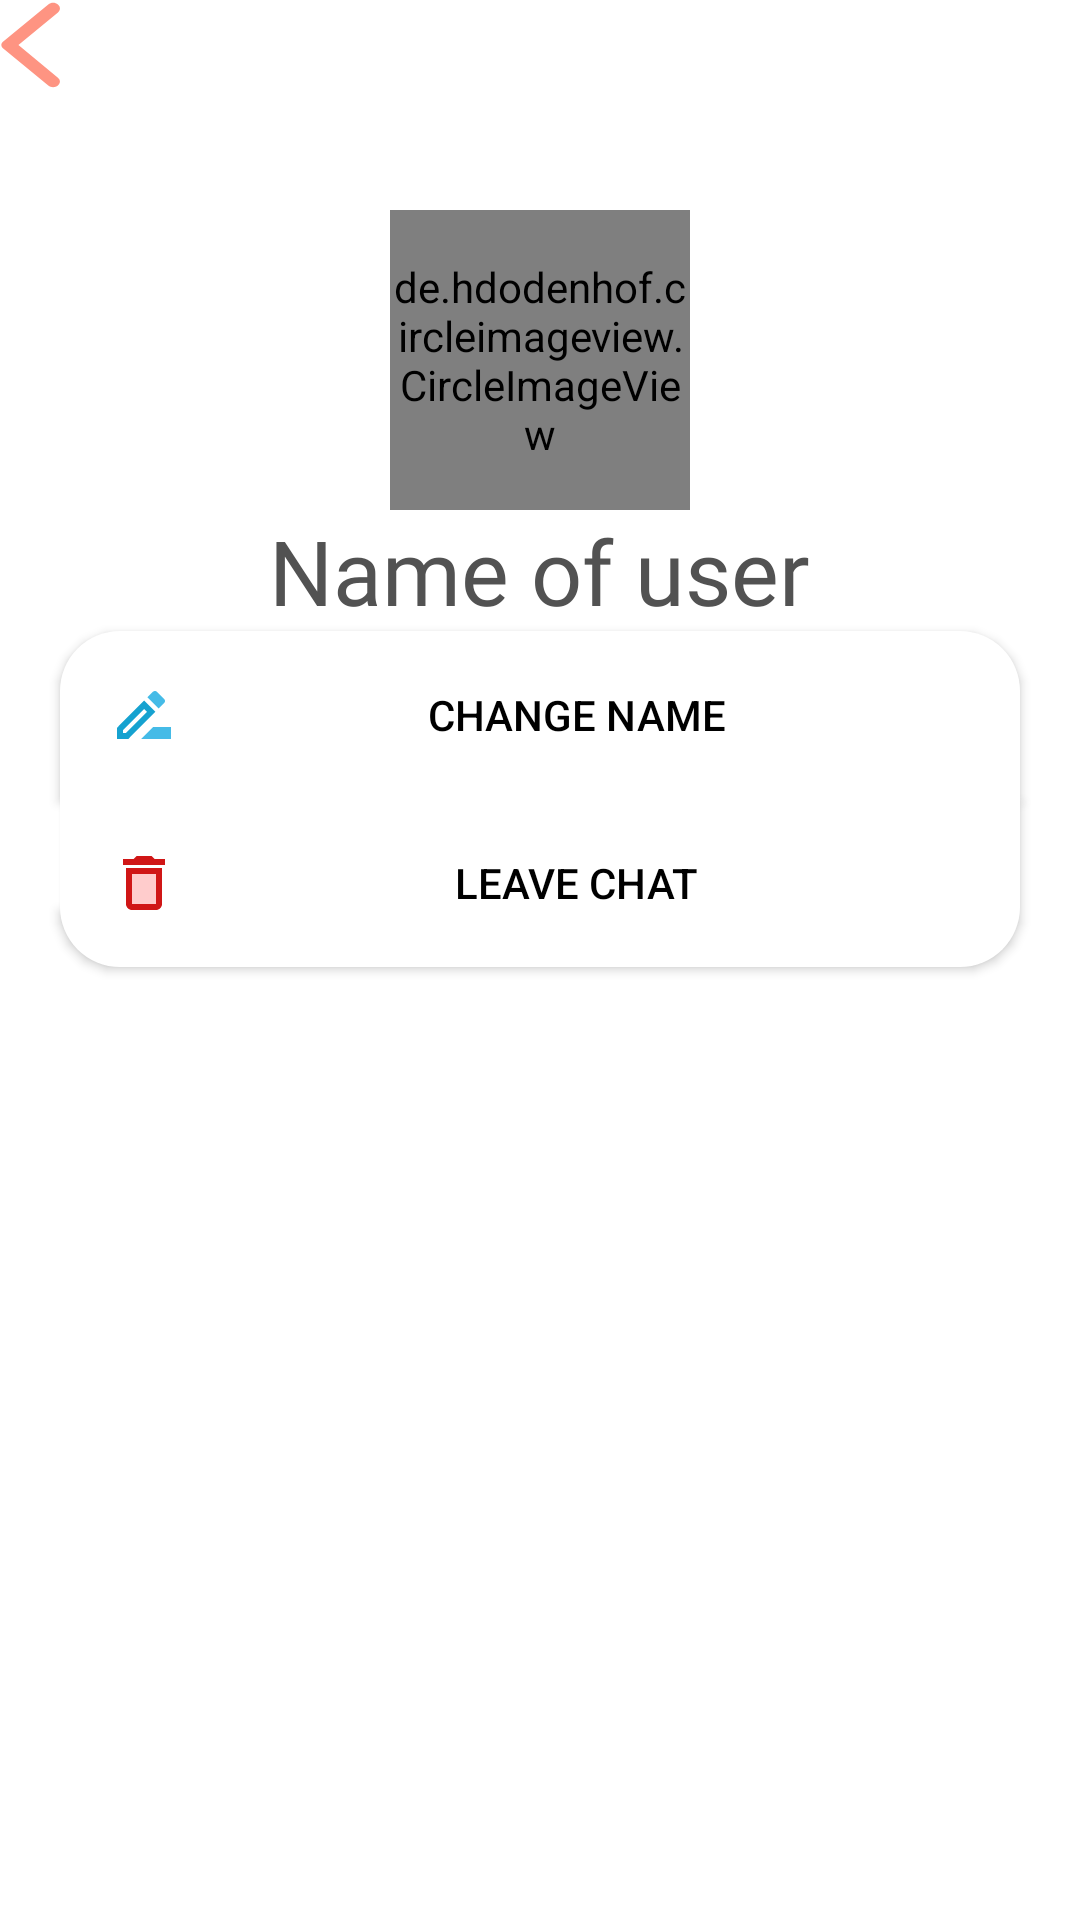

Screen size 1080x1920. Icon name, then its box in pixels as (x1, y1, x2, y2):
back: (1, 2, 60, 87)
